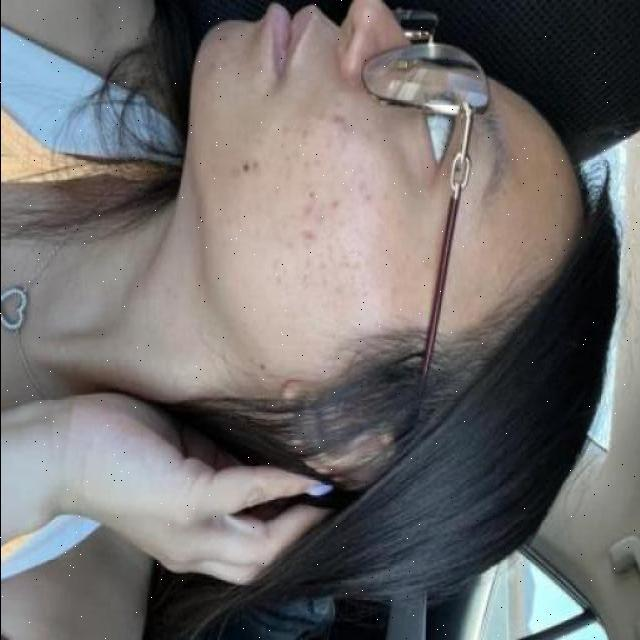Acne: (243, 94, 387, 320)
